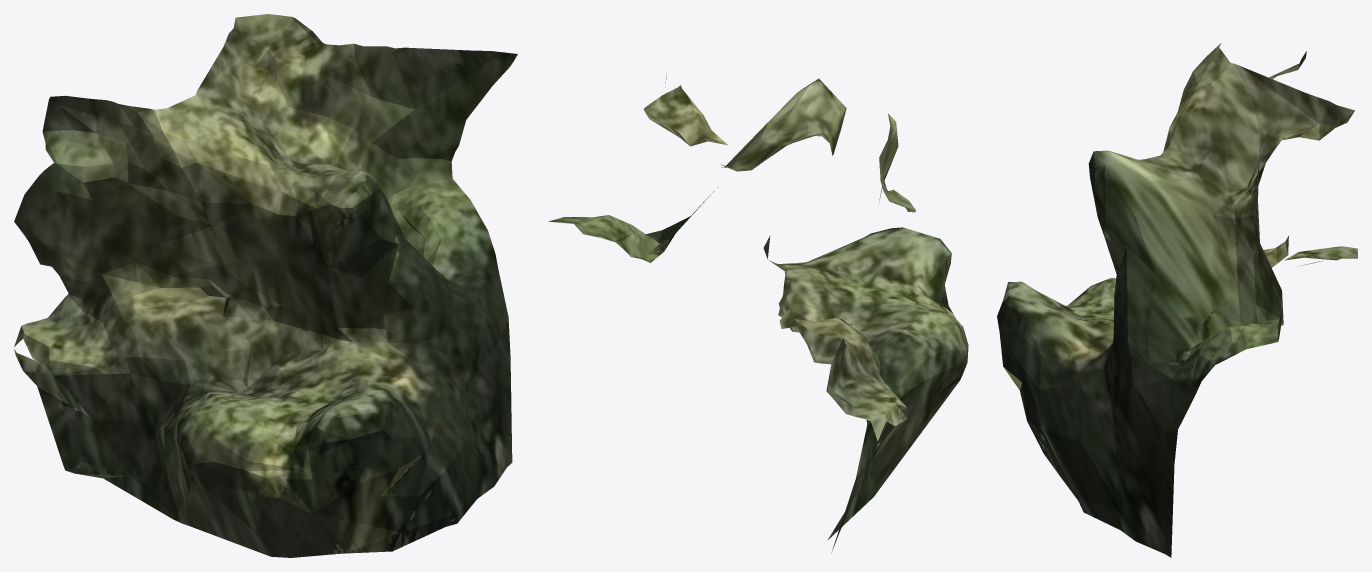
The picture shows the model from 3 angles, left to right: view 1: azimuth 30°, elevation 25°; view 2: azimuth 150°, elevation 25°; view 3: azimuth 270°, elevation 25°; orthographic projection. The views are drawn at different scales.
Size of the model in its own units: 2.95 by 2.95 by 2.6.
5 materials, 5 textured.
